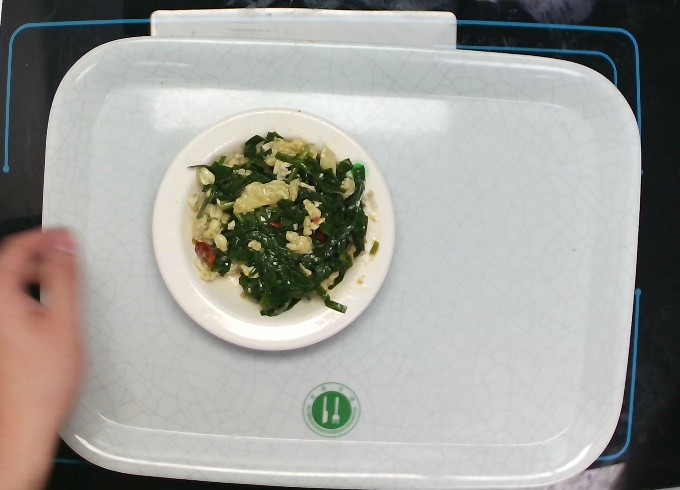WCQzf-Kuan_Bian_Yuan_Die: (143, 101, 399, 356)
